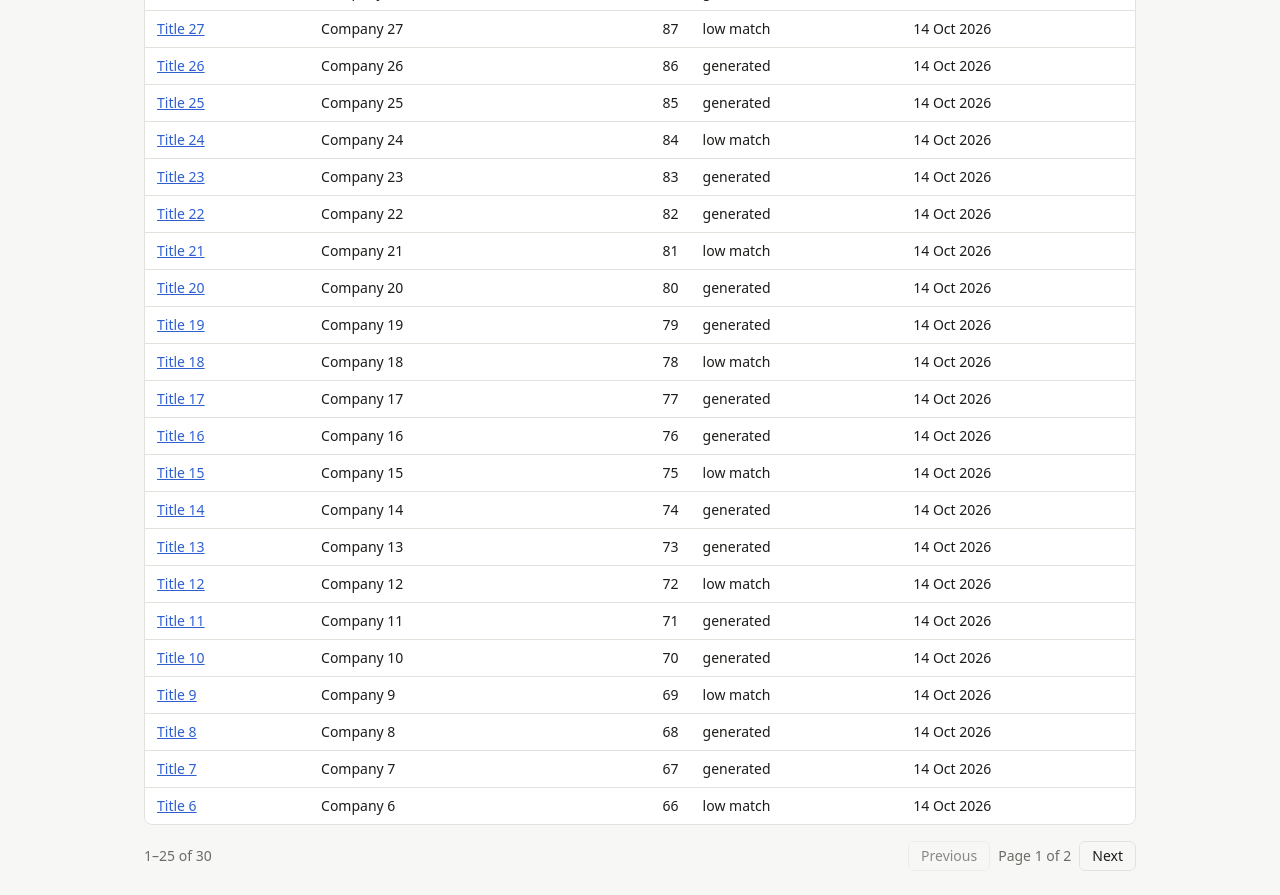
Test: Jobs tab › lists every posting, newest first, one page at a time
This screenshot has width=1280, height=895.
(page scrolled)
expect the text "1–25 of 30" is shown: met, box [144, 846, 212, 866]
Click the button "Next".
click(1108, 856)  # box [1079, 841, 1136, 871]
(page scrolled)
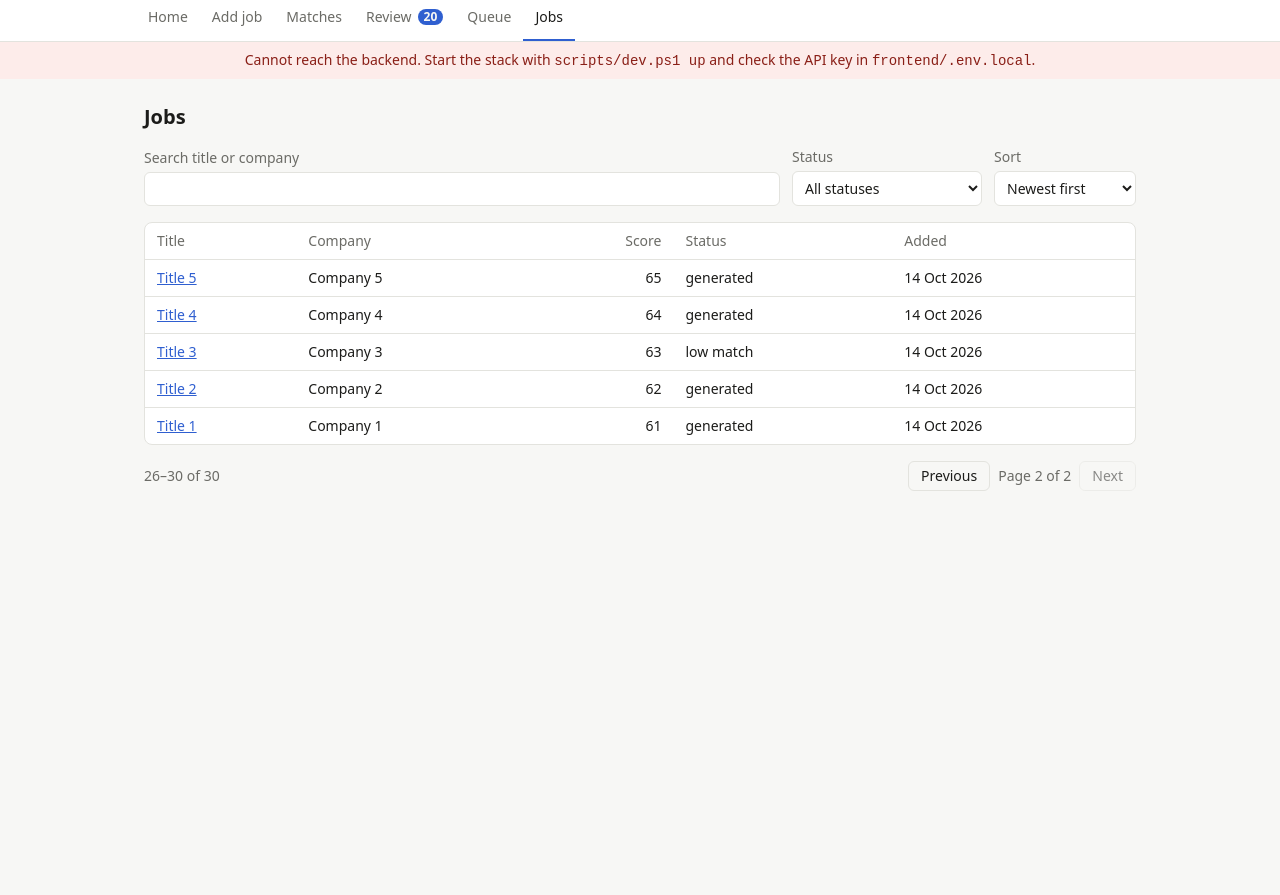
expect the text "26–30 of 30" is shown: met, box [144, 466, 220, 486]
expect the button "Next" is disabled: met, box [1079, 461, 1136, 491]
